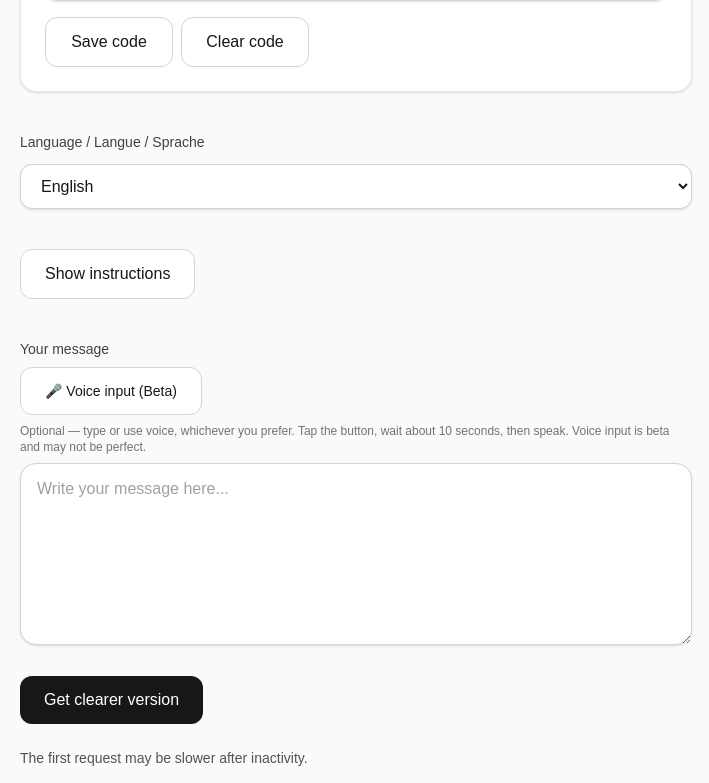
Test case: Dictation frontend behavior › C. API failure shows transcription failure message
(page scrolled)
Click the button "🎤 Voice input (Beta)".
click(111, 391)  # box [20, 367, 202, 415]
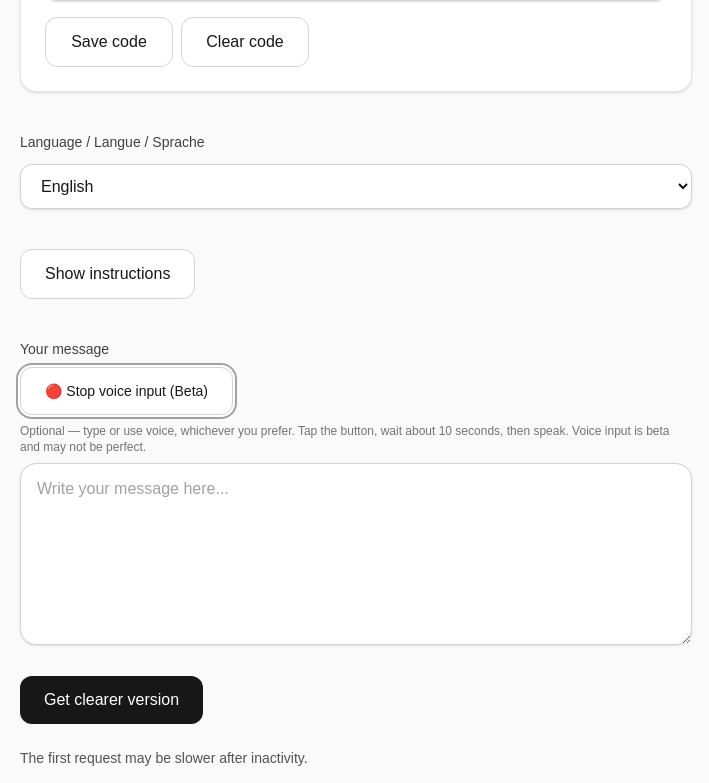
Click the button "🔴 Stop voice input (Beta)".
click(126, 391)  # box [20, 367, 233, 415]
(page scrolled)
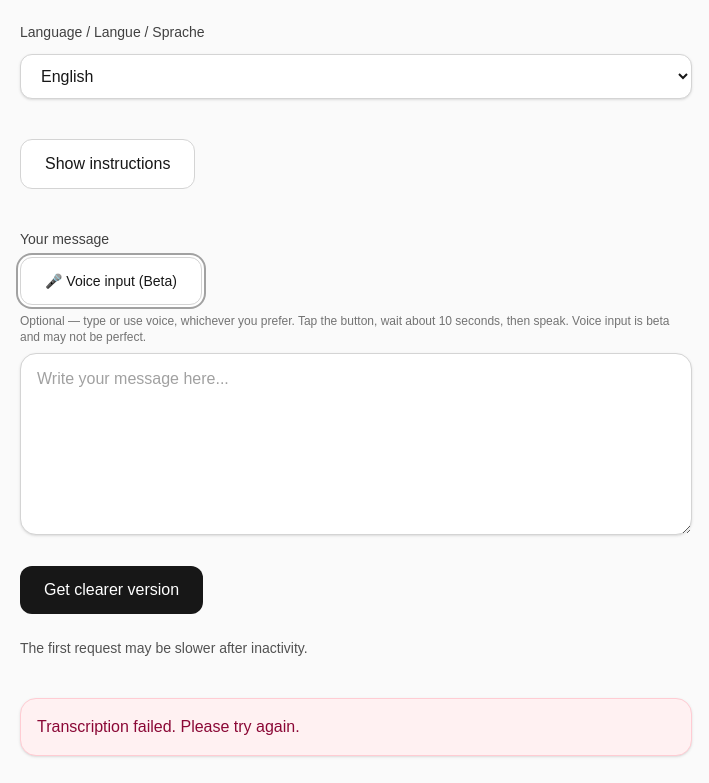
Expected: the text "Transcription failed. Please try again." is shown, [20, 698, 692, 756]
